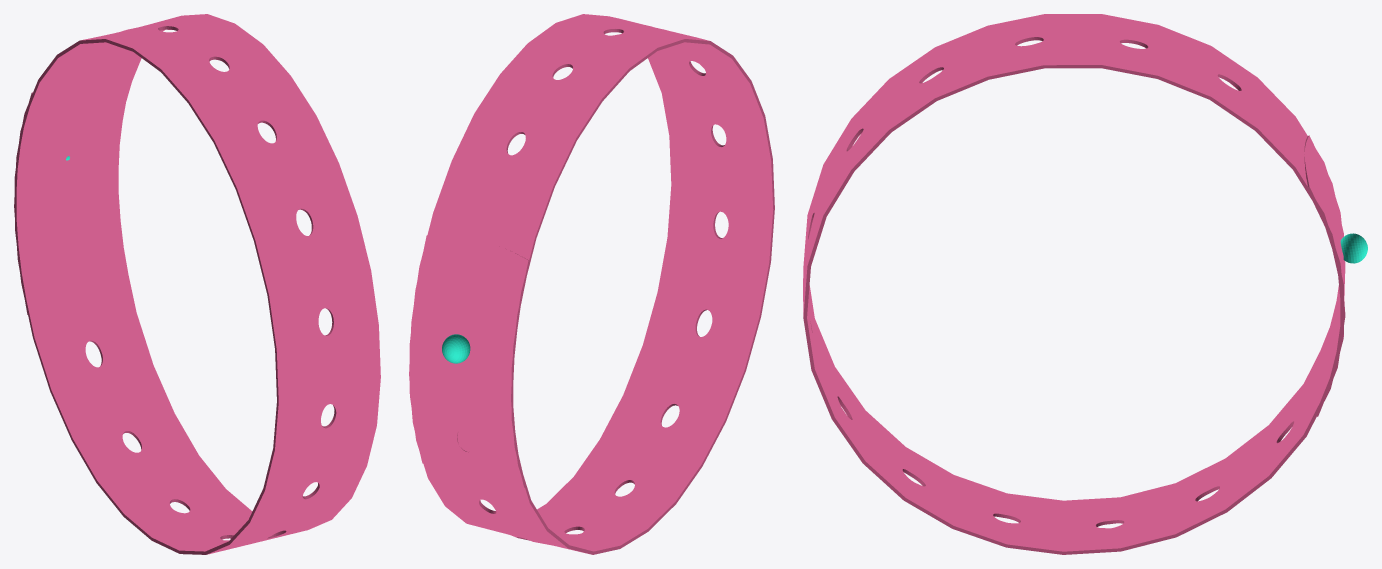
File: Tourniquet.fbx
The picture shows the model from 3 angles, left to right: view 1: azimuth 30°, elevation 25°; view 2: azimuth 150°, elevation 25°; view 3: azimuth 270°, elevation 25°; orthographic projection. The views are drawn at different scales.
Visible parts, largest first — view 1: Tourniquet_ShapeKey; view 2: Tourniquet_ShapeKey; view 3: Tourniquet_ShapeKey.
Boxes of the visible parts, bbox=[...] form: Tourniquet_ShapeKey: bbox=[14, 14, 380, 554]; Tourniquet_ShapeKey: bbox=[409, 14, 774, 554]; Tourniquet_ShapeKey: bbox=[803, 14, 1367, 554].
Size of the model in its own units: 163 by 728 by 760.
